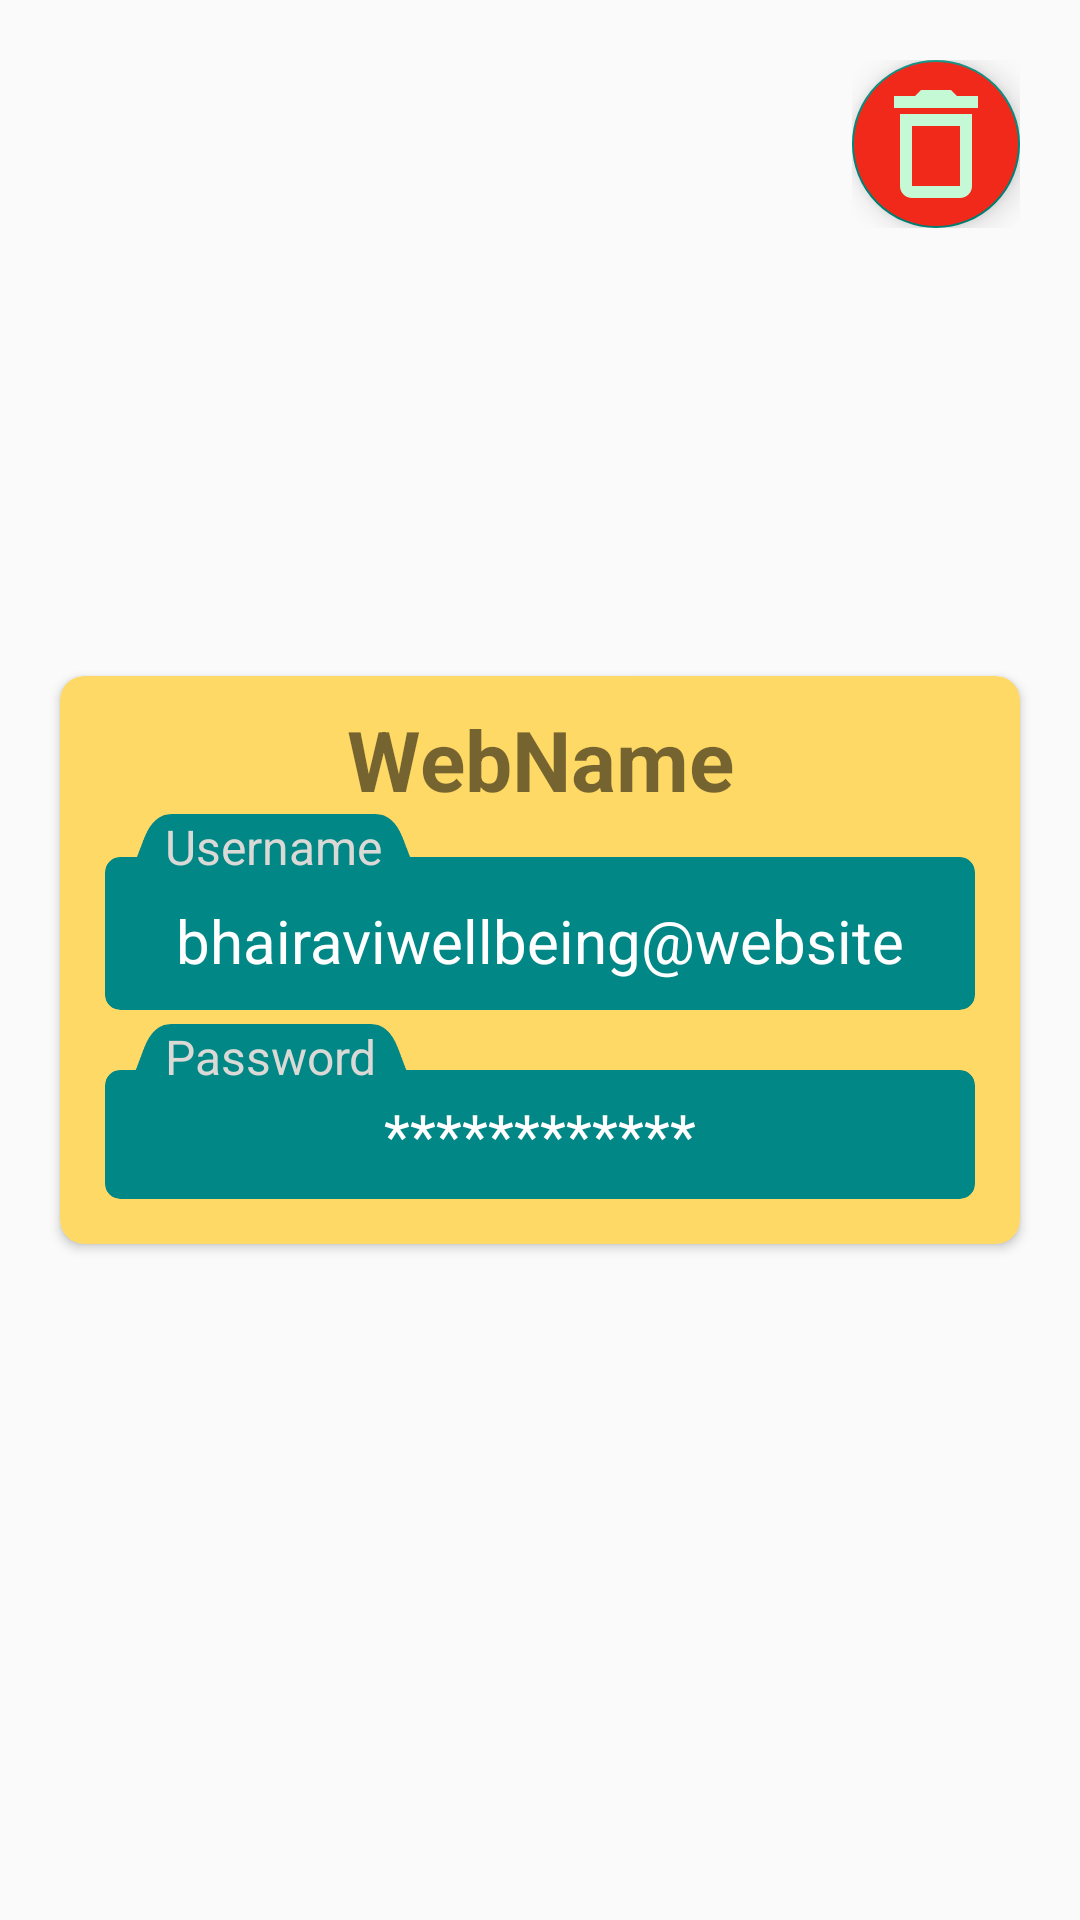

Point at icon controls on the screen. Image size 1080 x 1920, points as [x,y].
delete: [936,144]
